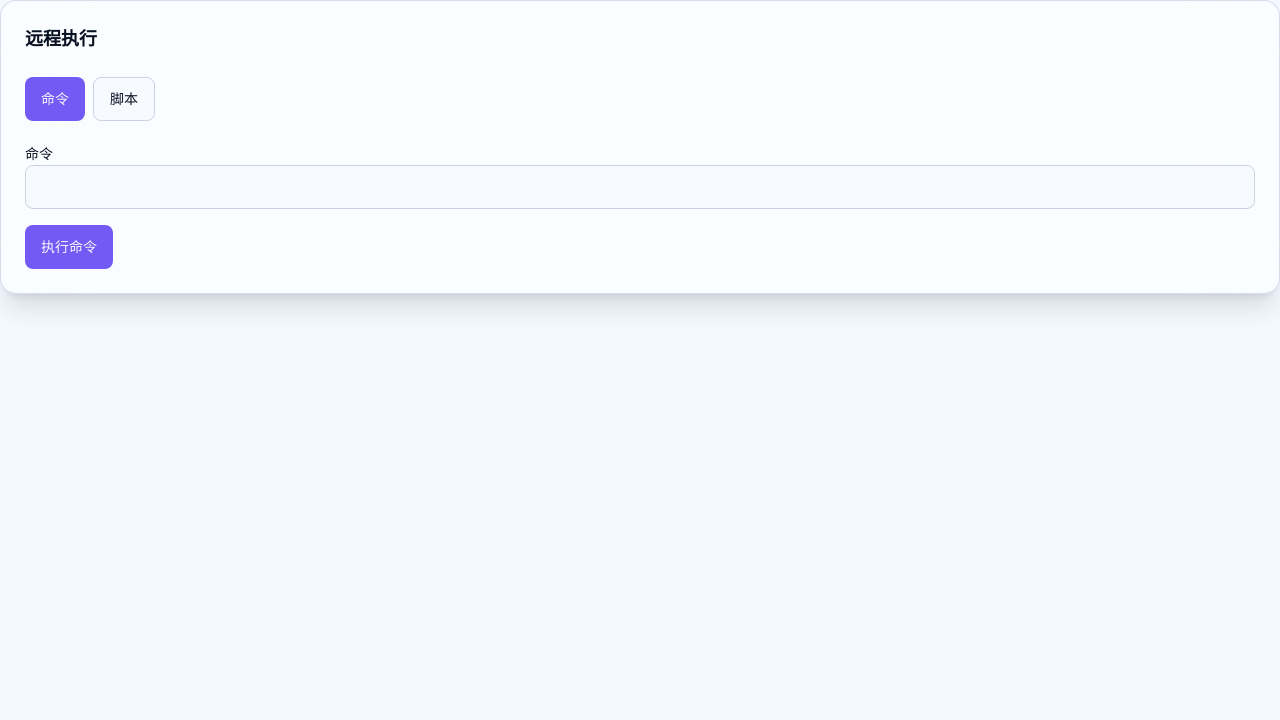
ExecutePanel › shows stable job errors
The width and height of the screenshot is (1280, 720).
Step 1. Type "false" into the field labelled "命令" → [640, 187], box [25, 165, 1255, 209]
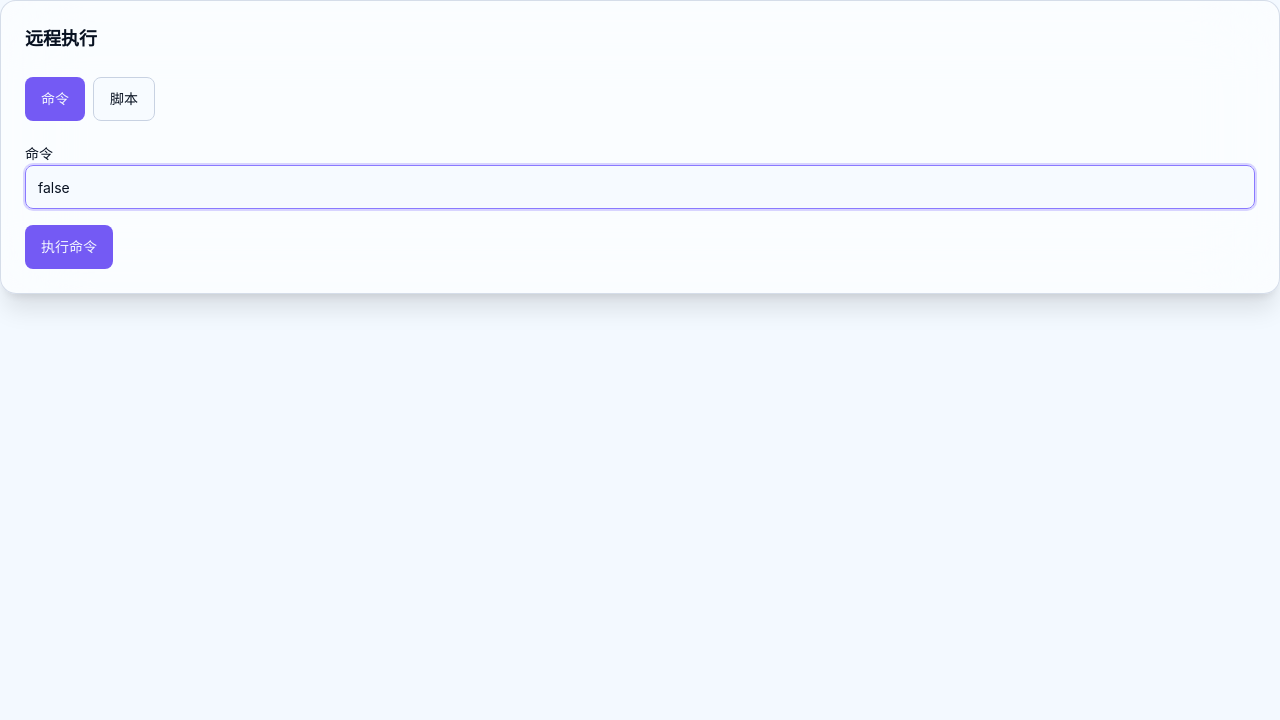
Step 2. Click the button "执行命令" → [69, 247], box [25, 225, 113, 269]
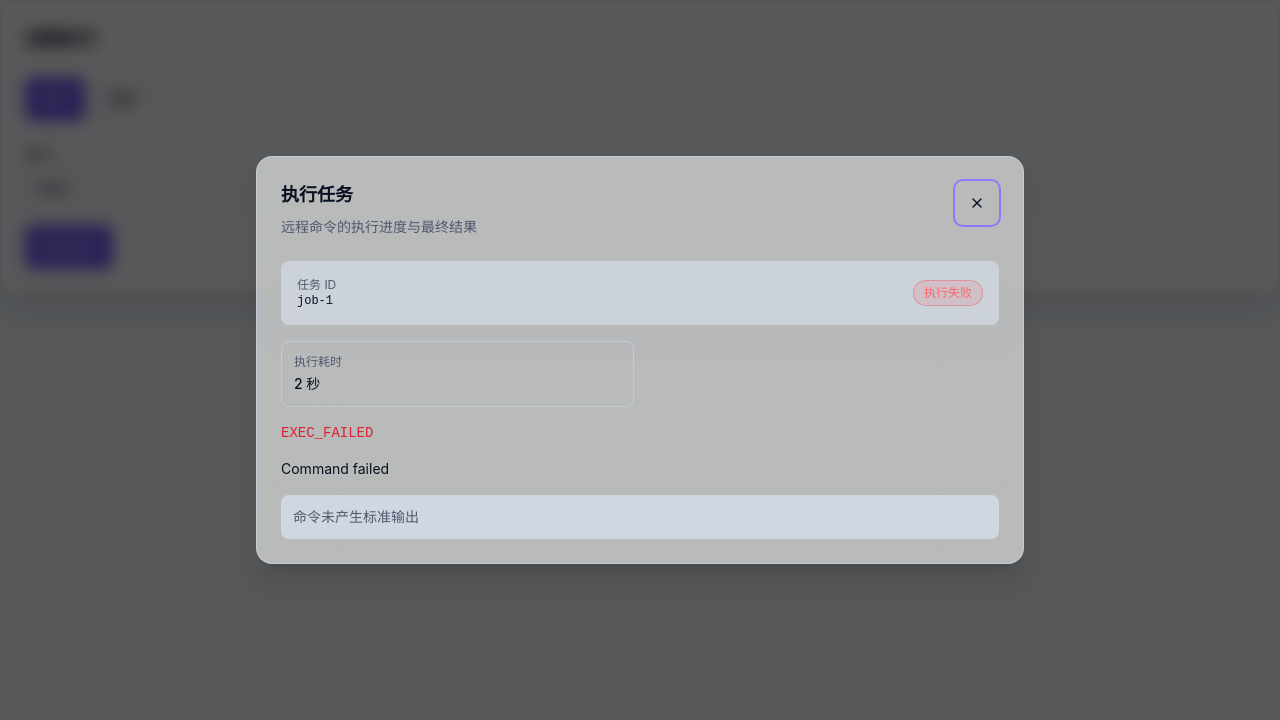
Check: the text "EXEC_FAILED" is shown, box [281, 425, 373, 441]
Check: the text "Command failed" is shown, box [281, 460, 389, 477]
